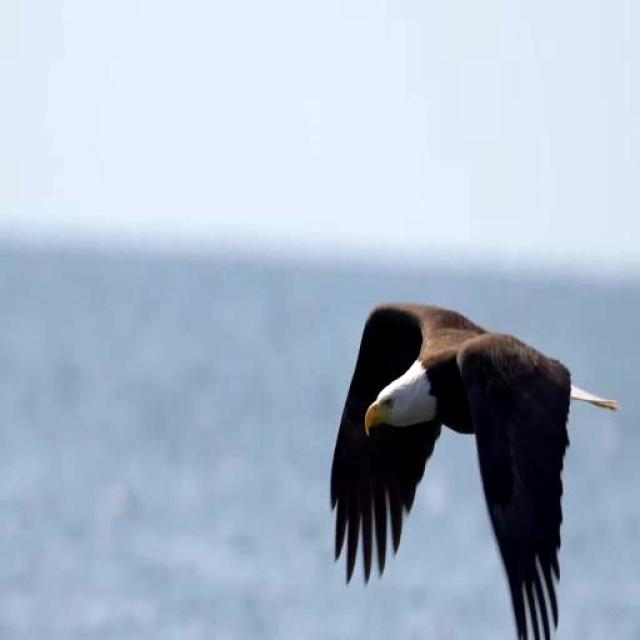airplane: (304, 270, 614, 640)
